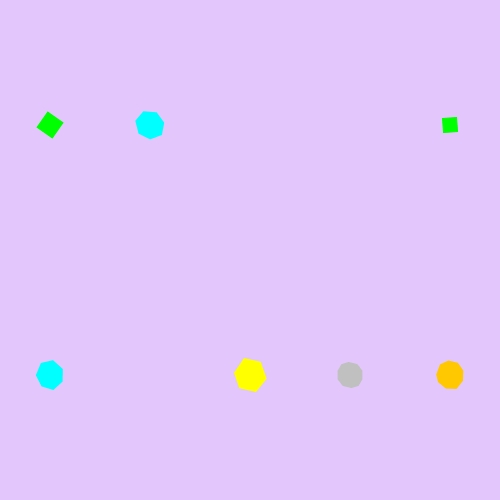decagon: (332, 359, 368, 392)
heptagon: (132, 107, 169, 143), (32, 357, 69, 393)
hexagon: (228, 357, 272, 394)
nonagon: (432, 357, 469, 393)
quadrilateral: (33, 108, 68, 143), (435, 110, 465, 140)
